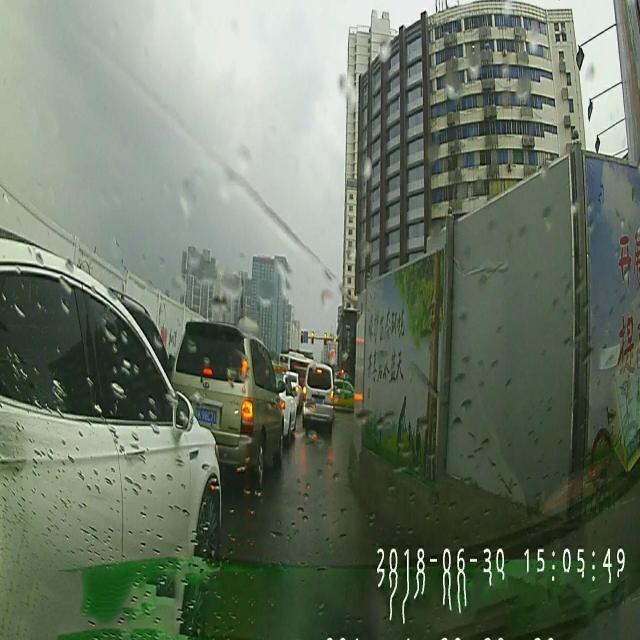car: (0, 237, 222, 583), (173, 316, 284, 486), (302, 359, 334, 437), (276, 364, 298, 440), (334, 379, 354, 412)
